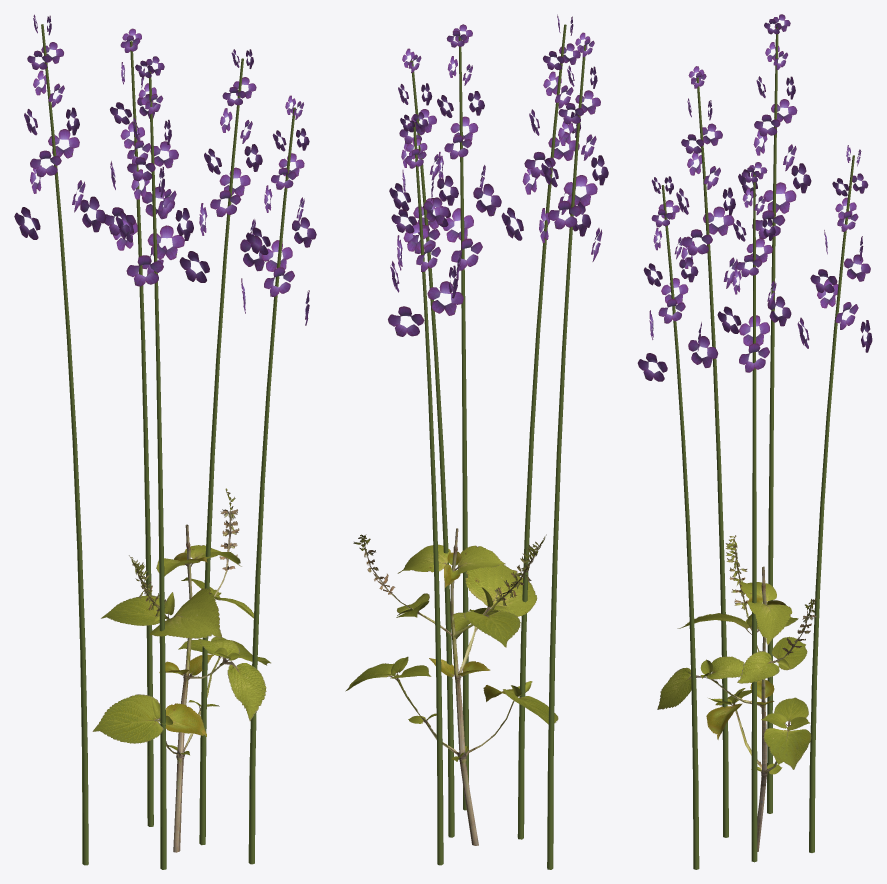
Rendered from flowers-packed.glb.
3 views of the same model, side by side, from view 1: azimuth 30°, elevation 25°; view 2: azimuth 150°, elevation 25°; view 3: azimuth 270°, elevation 25° (orthographic). The views are drawn at different scales.
Parts seen in each view (by area): view 1: purple-flower-spires; view 2: purple-flower-spires; view 3: purple-flower-spires.
Part boxes in pixels (left/top/right/bottom): purple-flower-spires: left=14, top=14, right=316, bottom=869; purple-flower-spires: left=345, top=14, right=608, bottom=869; purple-flower-spires: left=637, top=14, right=872, bottom=869.
Size of the model in its own units: 0.221 by 0.7167 by 0.1956.
3 materials, 2 textured.
